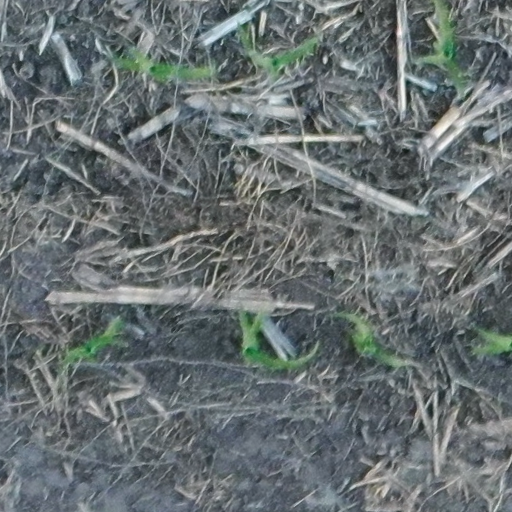planta: (325, 313, 420, 369), (238, 21, 321, 83), (239, 307, 318, 369), (106, 46, 216, 81), (58, 314, 121, 365)
